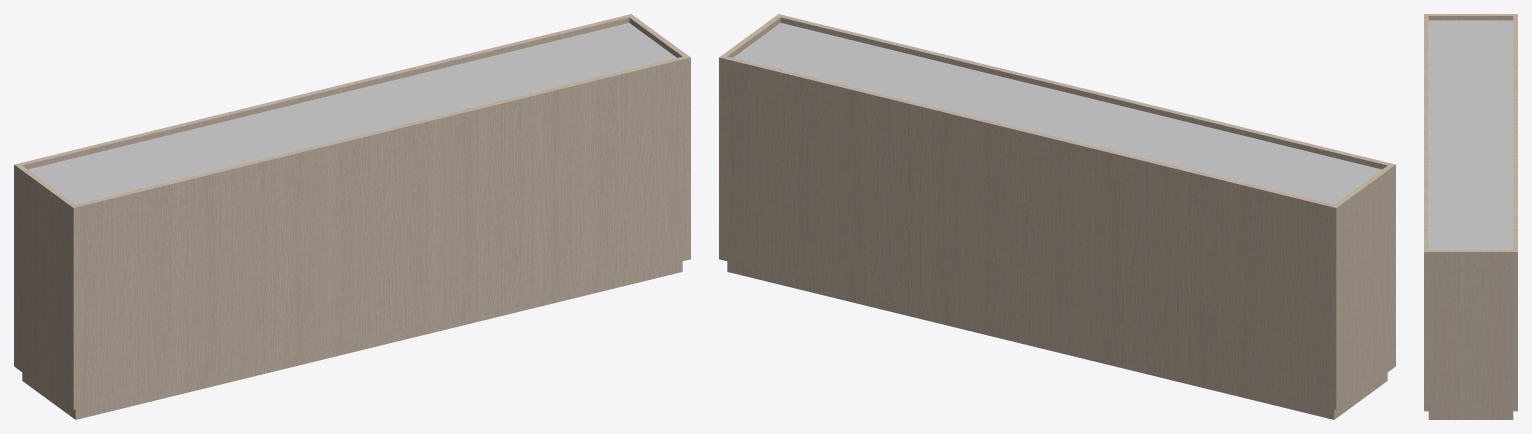
Rendered from D_Pot_009.fbx.
3 views of the same model, side by side, from view 1: azimuth 30°, elevation 25°; view 2: azimuth 150°, elevation 25°; view 3: azimuth 270°, elevation 25° (orthographic). The views are drawn at different scales.
Parts seen in each view (by area): view 1: D_Pot_009; view 2: D_Pot_009; view 3: D_Pot_009.
Part boxes in pixels (x1,y1,x2,y2): D_Pot_009: (14, 14, 690, 419); D_Pot_009: (719, 14, 1395, 419); D_Pot_009: (1424, 14, 1517, 419).
Bounding box in the file's own units: 2.4 × 0.8 × 0.4.
